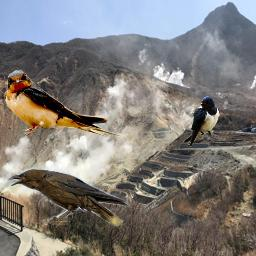Crow: (6, 166, 131, 226)
Swallow: (3, 70, 121, 142), (183, 96, 220, 148)
